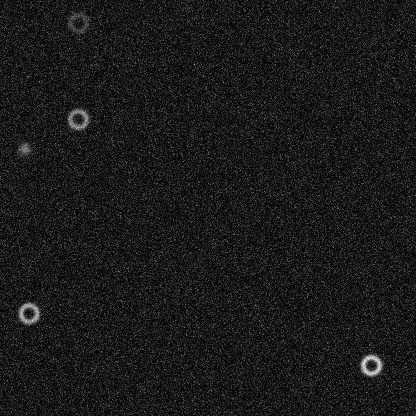Ring: (66, 107, 90, 131), (16, 301, 40, 325), (66, 10, 90, 34), (359, 353, 383, 377)
Spot: (16, 140, 32, 156)
